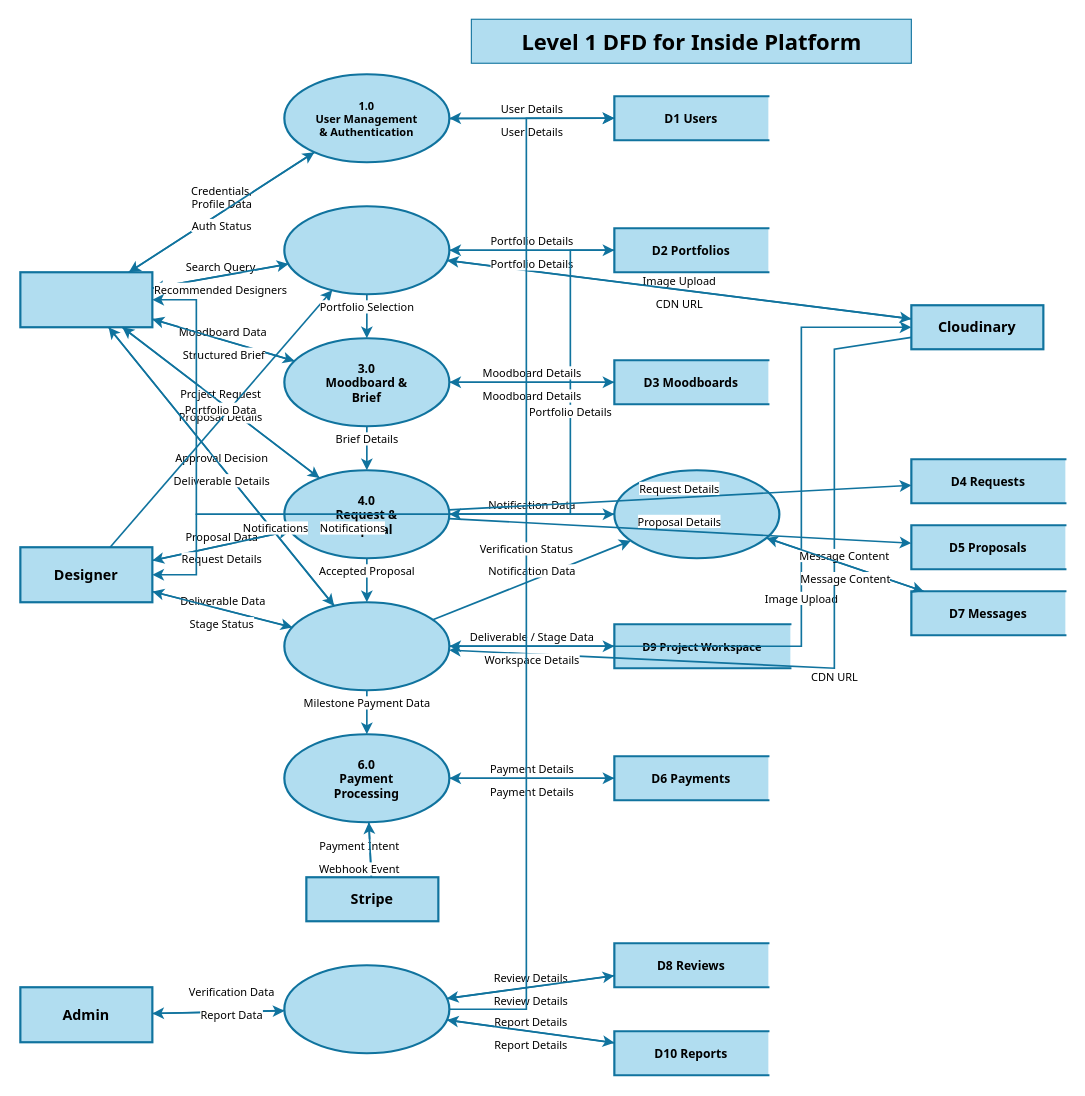
Image size: 1085x1096. Some labels were removed from this diagram. The shapes that lost their labels are listed below. From the top down, each one's centre as x and y in pixels, then its label:
At point (366, 250): "2.0 Portfolio & Discovery".
At point (86, 299): "Client".
At point (696, 514): "7.0 Messaging & Notifications".
At point (366, 646): "5.0 Project Workspace".
At point (366, 1009): "8.0 Trust, Safety & Administration".
